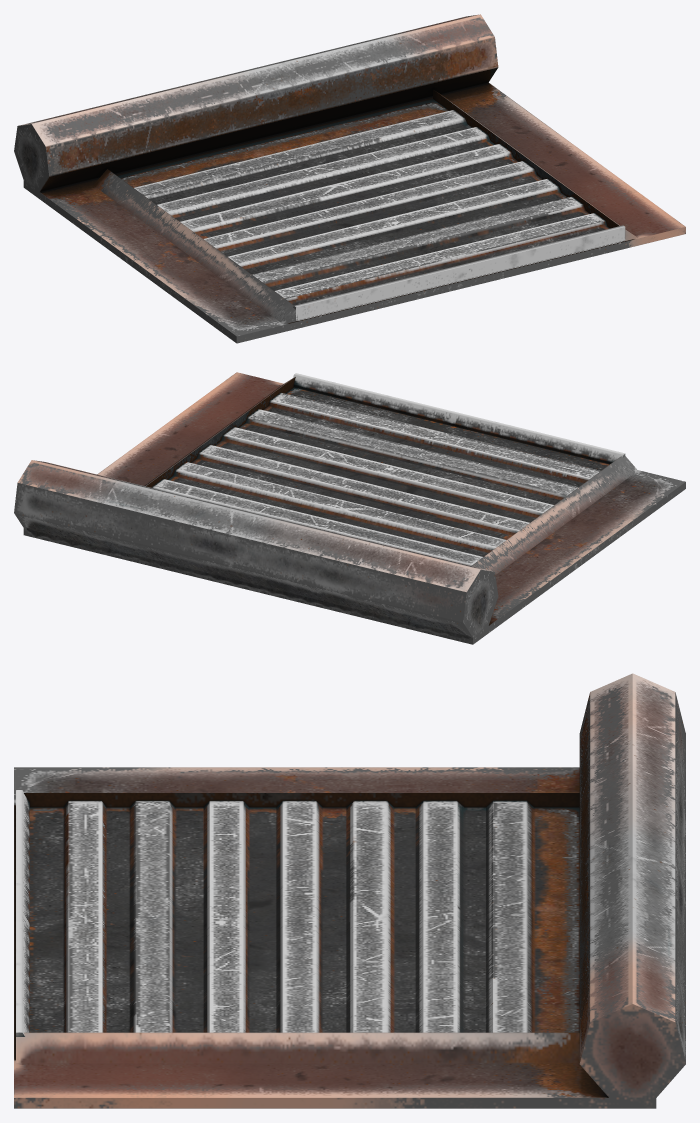
The model's file is Rollup door.fbx.
3 renders of one model, top to bottom at view 1: azimuth 30°, elevation 25°; view 2: azimuth 150°, elevation 25°; view 3: azimuth 270°, elevation 25°, orthographic. The views are drawn at different scales.
Parts seen in each view (by area): view 1: pCube3; view 2: pCube3; view 3: pCube3.
Part boxes in pixels (x1,y1,x2,y2): pCube3: [14, 14, 685, 343]; pCube3: [14, 372, 685, 644]; pCube3: [14, 673, 685, 1108].
Bounding box in the file's own units: 6.63 × 0.9802 × 5.7.
